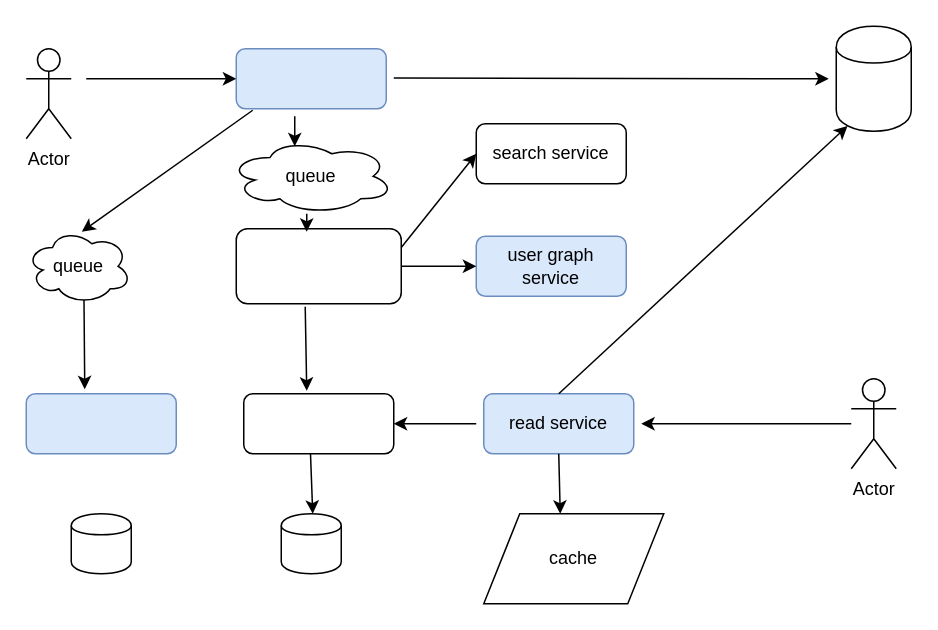
The diagram is 938 pixels wide and 630 high, and some of its shapes have lost their labels. The centre of each missing label's shape, as x and y in pixels:
"Fanout service" goes at point 318,265.
"ranking service" goes at point 100,423.
"timeline service" goes at point 318,423.
"write service" goes at point 310,78.
